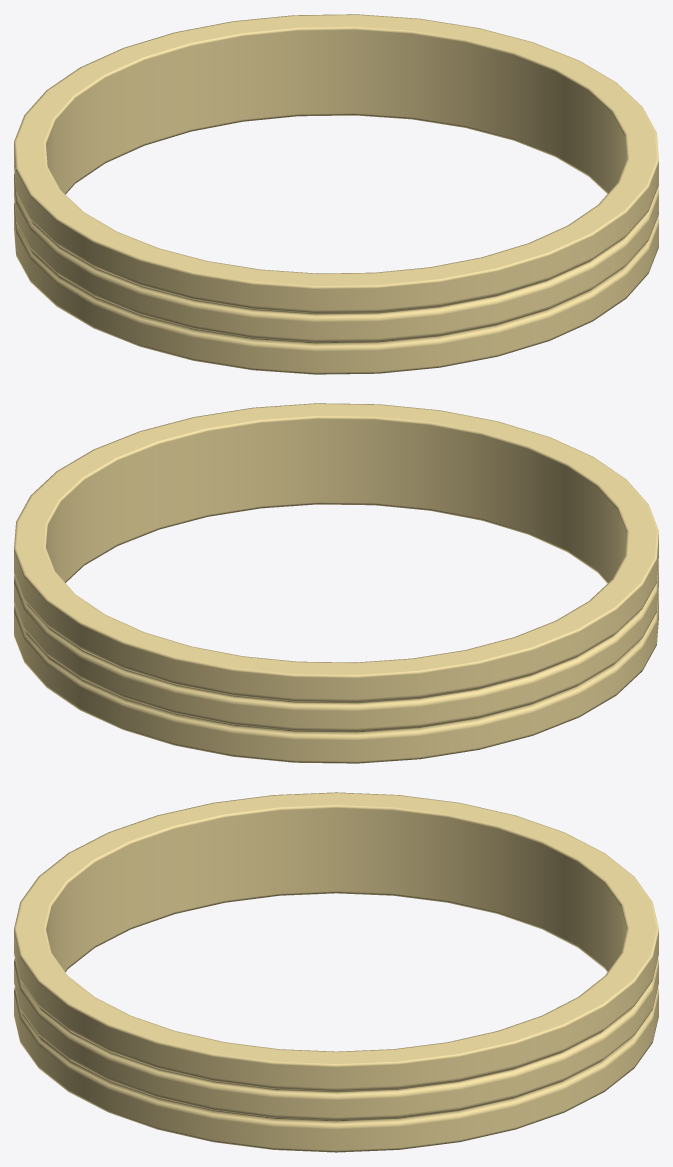
3 views of the same model, one above another, from view 1: azimuth 30°, elevation 25°; view 2: azimuth 150°, elevation 25°; view 3: azimuth 270°, elevation 25° (orthographic).
Visible parts, largest first — view 1: Base_metal, Engraving_Metal; view 2: Base_metal, Engraving_Metal; view 3: Base_metal, Engraving_Metal.
Part boxes in pixels (box(x1,y1,x2,y2)): Base_metal: box(14, 14, 658, 374); Engraving_Metal: box(46, 27, 626, 194); Base_metal: box(14, 403, 658, 763); Engraving_Metal: box(46, 416, 626, 583); Base_metal: box(14, 792, 658, 1152); Engraving_Metal: box(46, 806, 626, 971).
Size of the model in its own units: 2.34 by 0.35 by 2.34.
